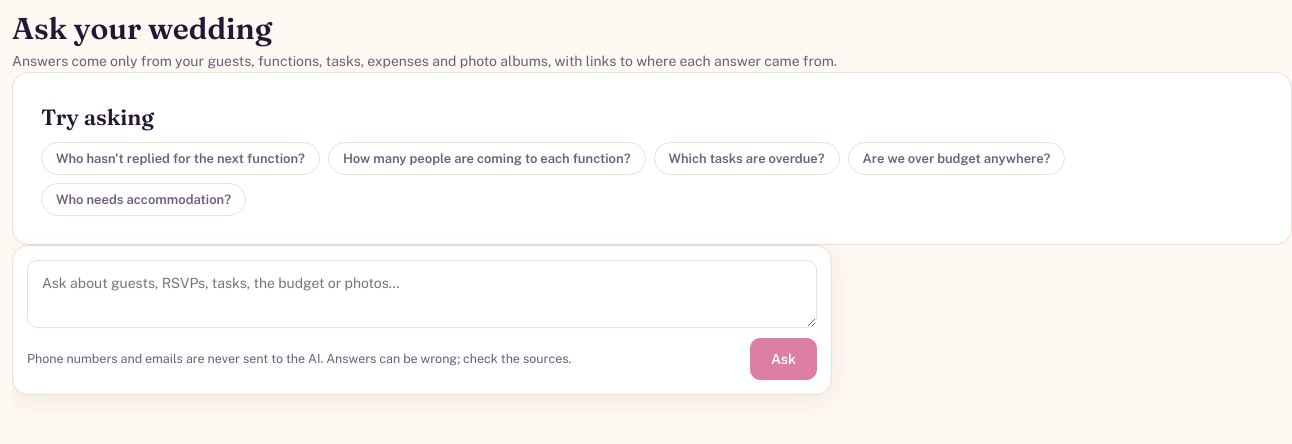
Ask your wedding › streams the answer and links each source
Type "Who hasn’t replied?" into the text box named "Your question" at (422, 294), box left=27, top=260, right=817, bottom=328
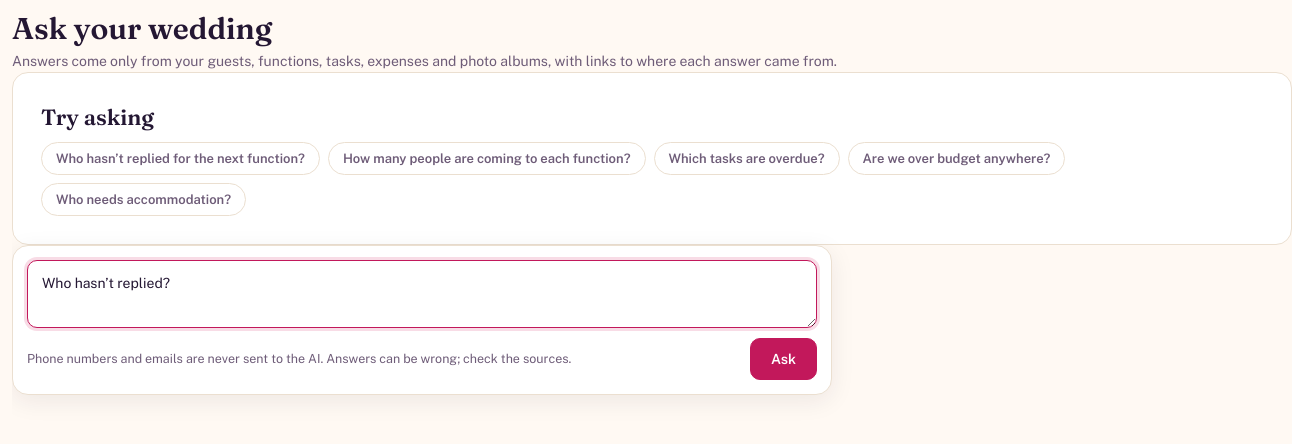
Click the button "Ask" at (783, 359), box left=750, top=338, right=817, bottom=380
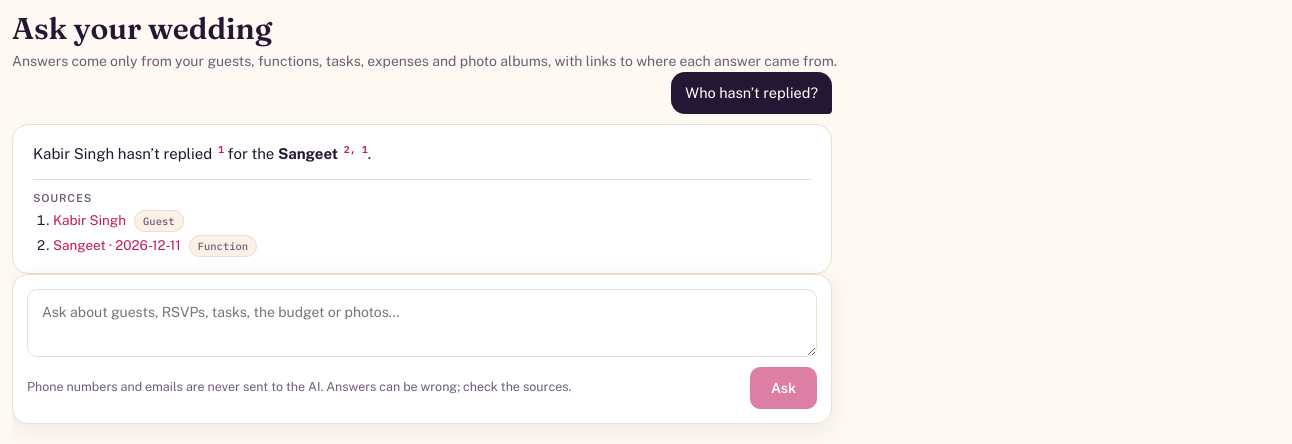
Expected: the text "Who hasn’t replied?" is shown, left=671, top=72, right=832, bottom=114
Expected: the text "Kabir Singh hasn’t replied 1 for the Sangeet 2, 1." is shown, left=33, top=143, right=371, bottom=162
Expected: the text box named "Your question" is empty, left=27, top=289, right=817, bottom=357
